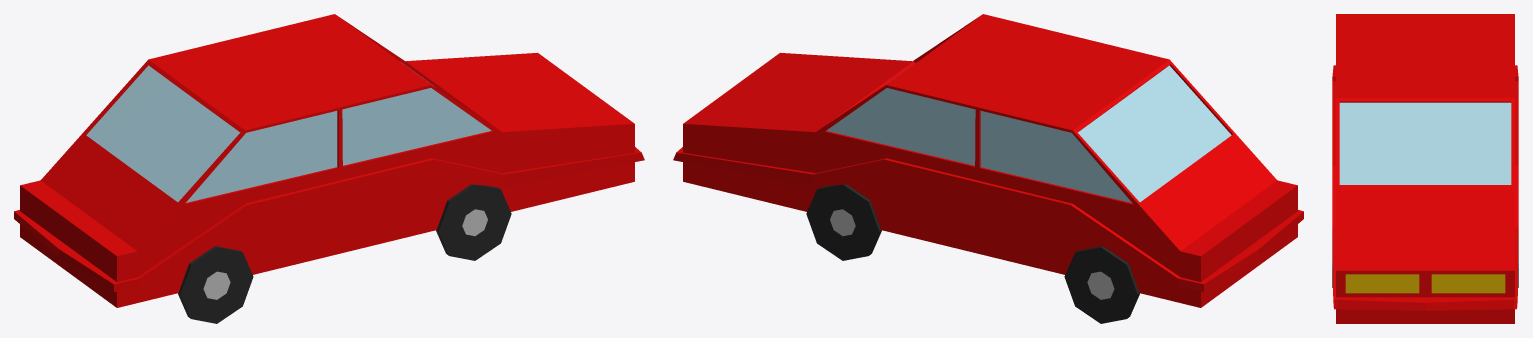
File: Coche_Rojo.fbx
3 views of the same model, side by side, from view 1: azimuth 30°, elevation 25°; view 2: azimuth 150°, elevation 25°; view 3: azimuth 270°, elevation 25° (orthographic). The views are drawn at different scales.
Parts seen in each view (by area): view 1: Cube, Cylinder.001, Cylinder; view 2: Cube, Cylinder.001, Cylinder; view 3: Cube.
Part boxes in pixels (box(x1,y1,x2,y2)): Cube: box(14, 14, 644, 307); Cylinder.001: box(178, 246, 253, 323); Cylinder: box(436, 184, 511, 260); Cube: box(673, 14, 1303, 307); Cylinder.001: box(1064, 246, 1139, 323); Cylinder: box(806, 184, 881, 260); Cube: box(1332, 14, 1518, 323).
Size of the model in its own units: 412 by 135 by 133.
